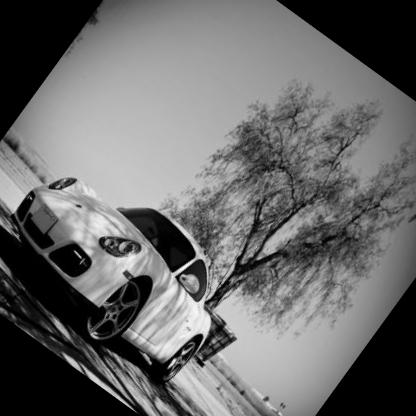car: (1, 124, 289, 416)
